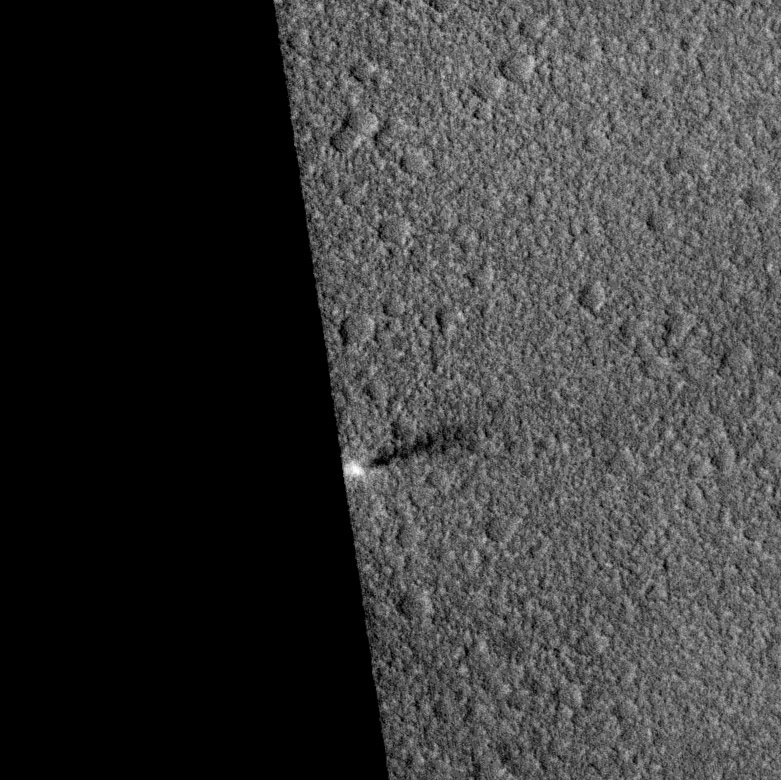dust_devil: (343, 424, 477, 477)
